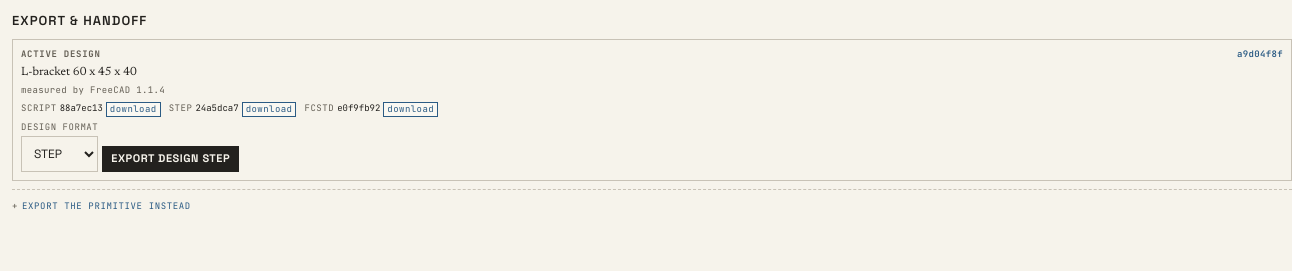
Test: ExportPanel — active design › exports the active design and shows the receipt with the sha256
This screenshot has width=1292, height=271.
Click the button with class "export-panel-design-button" at (171, 159), box [102, 146, 239, 172]
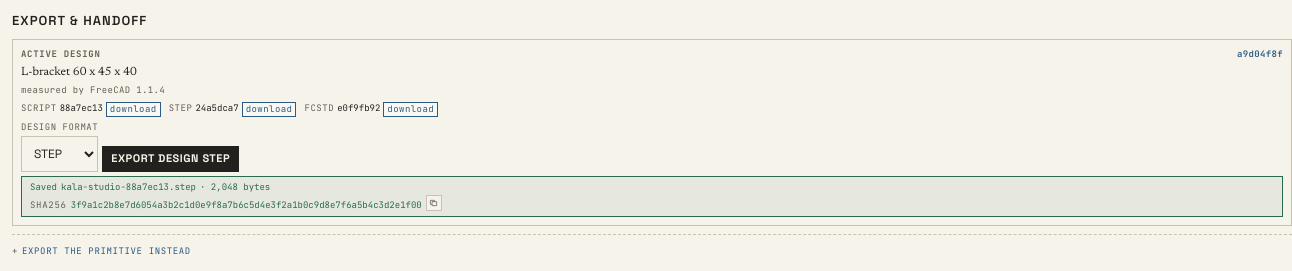
Now the message with class "export-panel-receipt" shows "kala-studio-88a7ec13.step", box [61, 181, 196, 193]
Now the message with class "export-panel-receipt" shows "2,048", box [211, 181, 238, 193]
Now the message with class "export-panel-receipt" shows "3f9a1c2b8e7d6054a3b2c1d0e9f8a7b6c5d4e3f2a1b0c9d8e7f6a5b4c3d2e1f00", box [71, 199, 422, 211]
